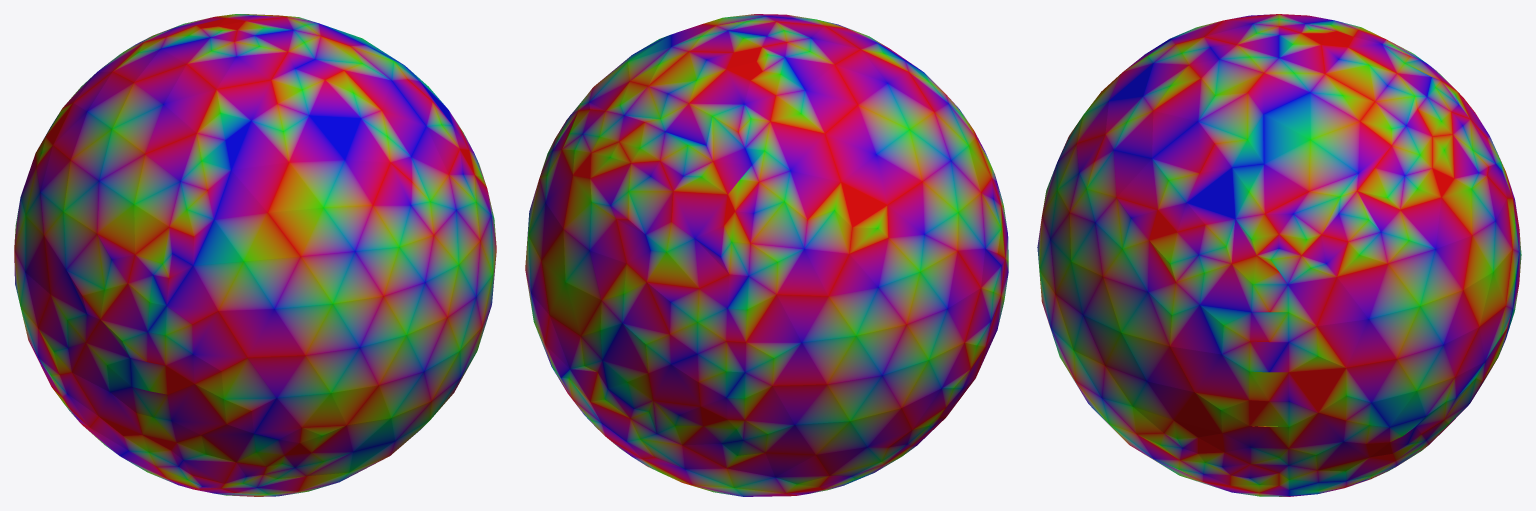
Rendered from after_decimating_reconquest_7.obj.
3 renders of one model, left to right at view 1: azimuth 30°, elevation 25°; view 2: azimuth 150°, elevation 25°; view 3: azimuth 270°, elevation 25°, orthographic.
Bounding box in the file's own units: 1.99 × 2 × 2.
